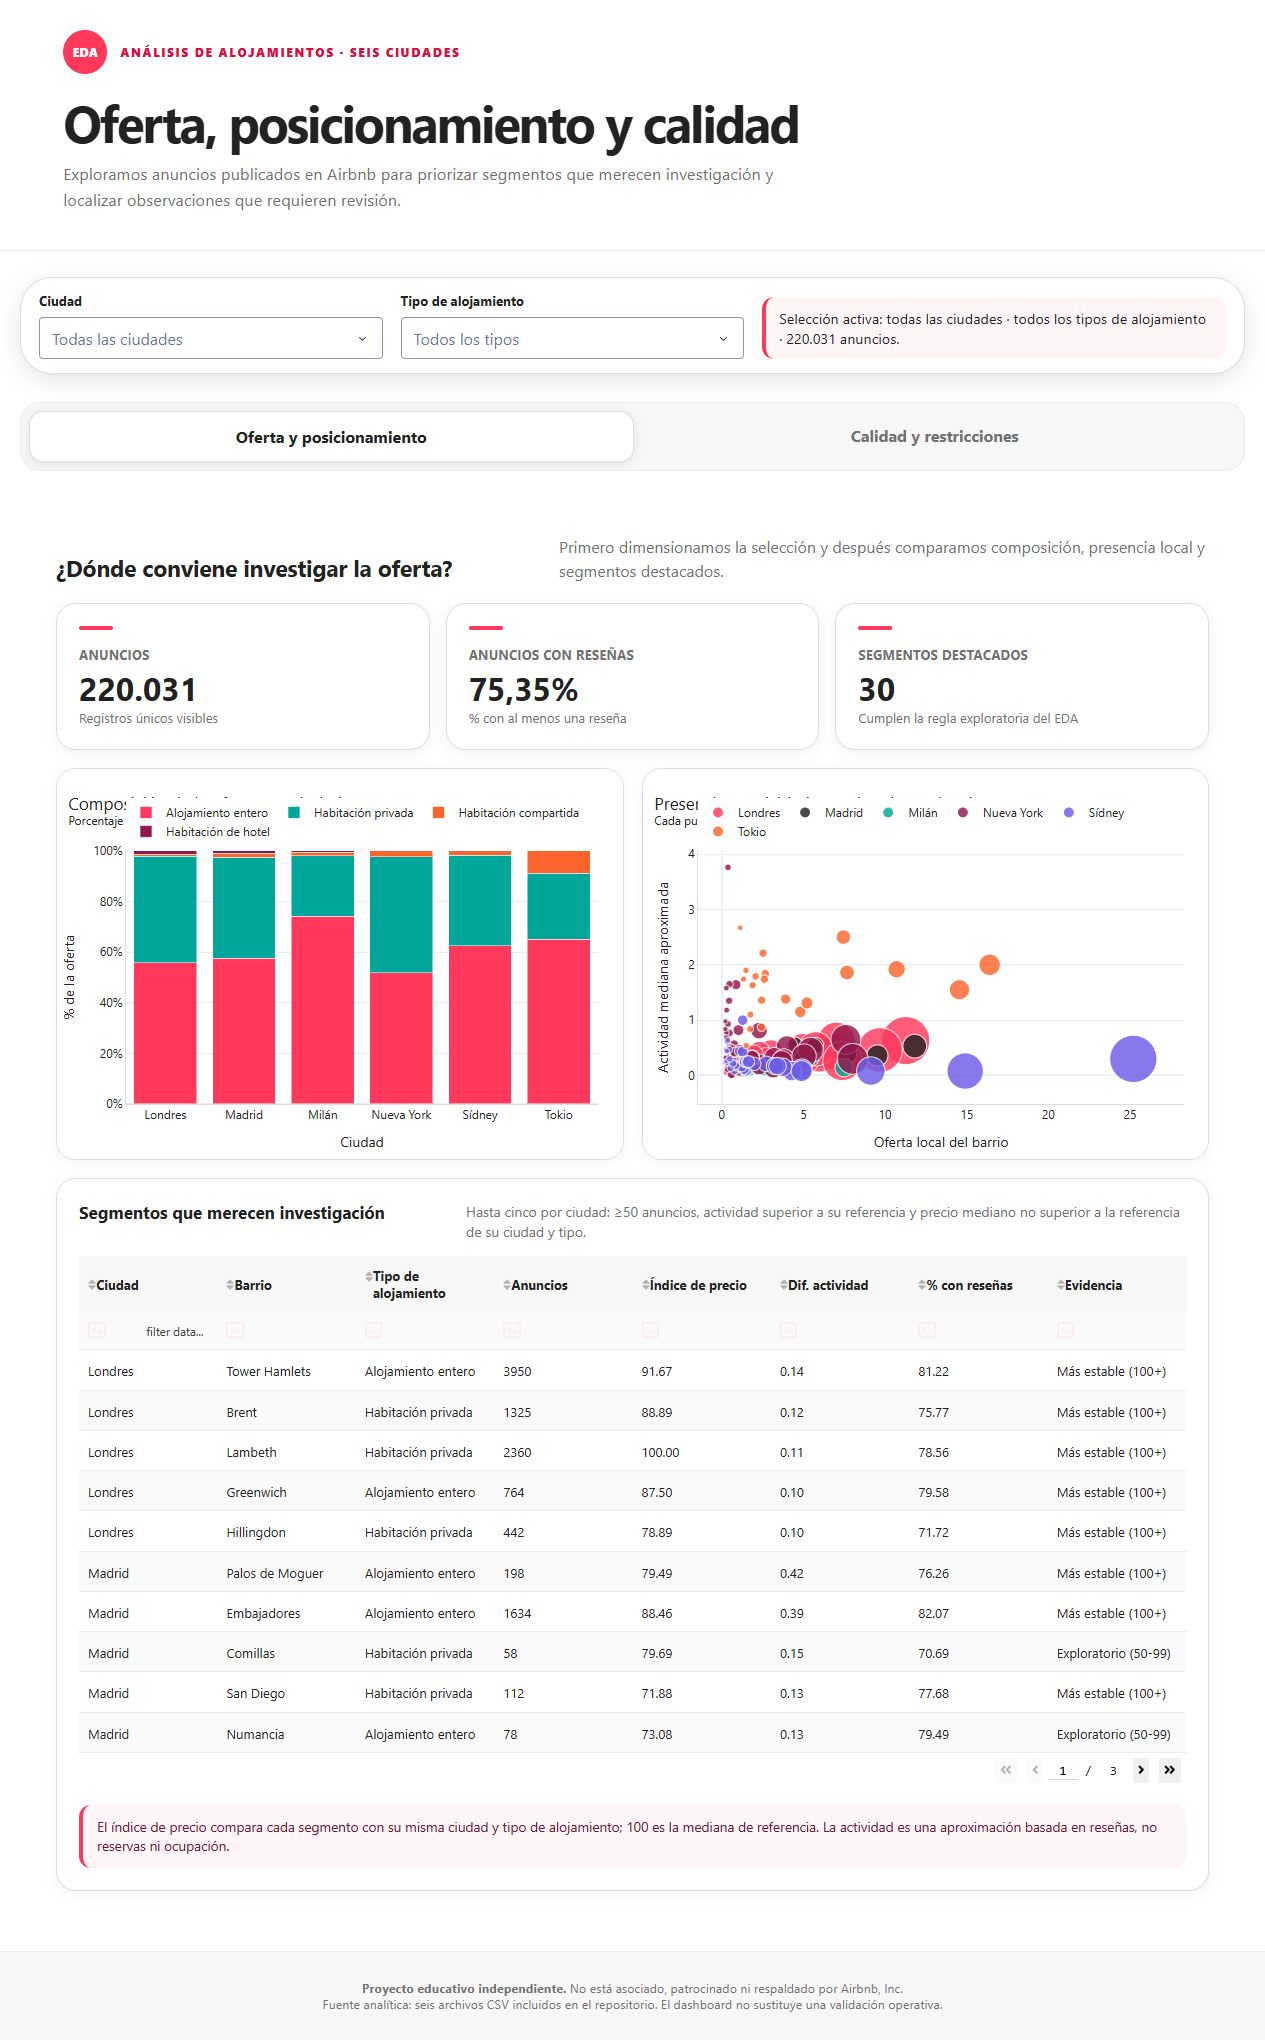

Layout of this report page (visuals, bound fields, positions):
{"tool":"powerbi","page":{"name":"Oferta y posicionamiento","canvas":[1920,1080],"ordinal":0},"visuals":[{"type":"cardVisual","fields":{"Data":["Listings.Anuncios"]},"box":[0,336.1,231,78],"z":0},{"type":"cardVisual","fields":{"Data":["Listings.Porcentaje con reseñas"]},"box":[0,431.3,231,78],"z":1000},{"type":"cardVisual","fields":{"Data":["Listings.Segmentos seleccionados"]},"box":[0,532.6,231,78],"z":2000},{"type":"slicer","title":"Ciudad","fields":{"Values":["Listings.city"]},"box":[0,73.7,199,75],"z":3000},{"type":"slicer","title":"Tipo de alojamiento","fields":{"Values":["Listings.room_type"]},"box":[0,159.6,199,75],"z":4000},{"type":"hundredPercentStackedColumnChart","title":"Composición de la oferta por ciudad y tipo de alojamiento","fields":{"Category":["Listings.city"],"Series":["Listings.room_type"],"Y":["Listings.Anuncios"]},"box":[293.1,12.3,780,443],"z":5000},{"type":"tableEx","fields":{"Values":["Listings.city","Listings.neighbourhood","Listings.room_type","Listings.Anuncios del segmento","Listings.Índice de precio (base 100)","Listings.Diferencia de actividad","Listings.candidate_evidence"]},"box":[293.1,469.6,1600,490],"z":6000},{"type":"scatterChart","title":"Presencia y actividad aproximada por barrio","fields":{"Category":["Listings.neighbourhood"],"Series":["Listings.city"],"Size":["Listings.Anuncios del barrio"],"X":["Listings.Oferta local del barrio"],"Y":["Listings.Actividad mediana del barrio"]},"box":[1114.2,12.3,780,443],"z":7000},{"type":"textbox","box":[293.1,983.8,1600.8,81.3],"z":7001},{"type":"pageNavigator","box":[0,0,265,61],"z":7002}]}

Visuals, with their boxes on the page's 1920x1080 design canvas (x1, y1, x2, y2). These are canvas units, not pixel positions in the 1265x2041 screenshot, which may show the page scaled, cropped or inside an application window:
cardVisual - Listings.Anuncios: {"left": 0, "top": 336, "right": 231, "bottom": 414}
cardVisual - Listings.Porcentaje con reseñas: {"left": 0, "top": 431, "right": 231, "bottom": 509}
cardVisual - Listings.Segmentos seleccionados: {"left": 0, "top": 533, "right": 231, "bottom": 611}
"Ciudad" slicer: {"left": 0, "top": 74, "right": 199, "bottom": 149}
"Tipo de alojamiento" slicer: {"left": 0, "top": 160, "right": 199, "bottom": 235}
"Composición de la oferta por ciudad y tipo de alojamiento" hundredPercentStackedColumnChart: {"left": 293, "top": 12, "right": 1073, "bottom": 455}
tableEx - Listings.city x Listings.neighbourhood: {"left": 293, "top": 470, "right": 1893, "bottom": 960}
"Presencia y actividad aproximada por barrio" scatterChart: {"left": 1114, "top": 12, "right": 1894, "bottom": 455}
textbox: {"left": 293, "top": 984, "right": 1894, "bottom": 1065}
pageNavigator: {"left": 0, "top": 0, "right": 265, "bottom": 61}
